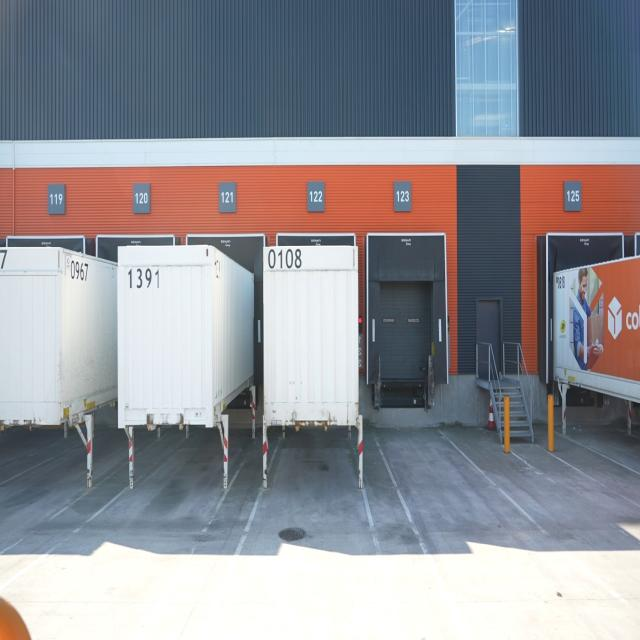Code: (124, 266, 164, 292), (266, 247, 304, 273), (68, 257, 94, 283)
